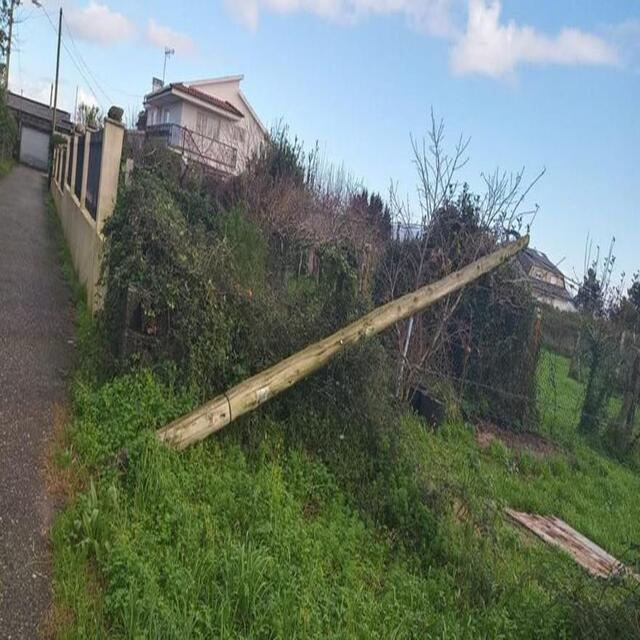Inclined Pole: (146, 223, 530, 453)
